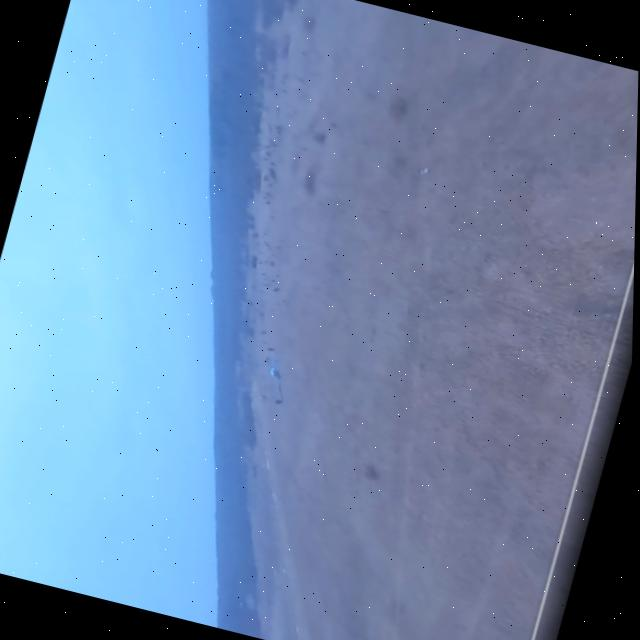planedrone: (239, 340, 300, 406)
